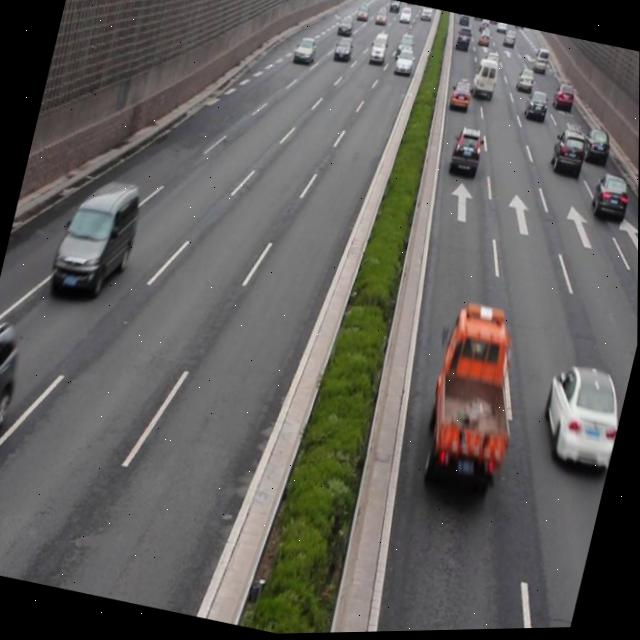bus: (408, 302, 534, 510)
car: (533, 355, 632, 481), (0, 314, 27, 477), (587, 173, 631, 228), (446, 125, 484, 185), (546, 129, 588, 183), (578, 126, 614, 171)
truck: (51, 173, 146, 306)
